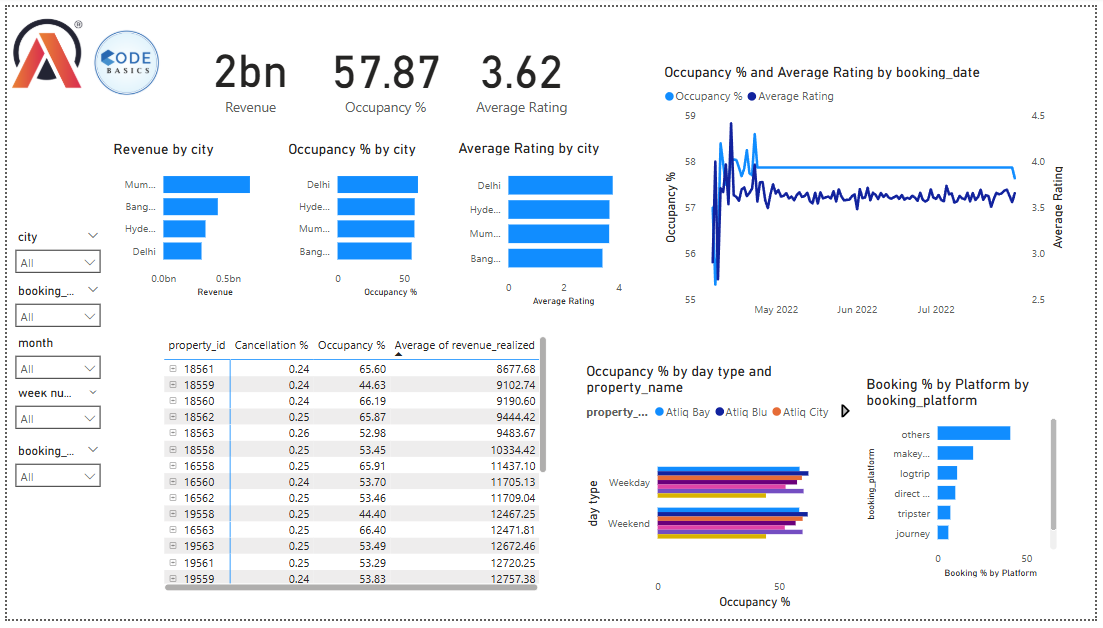

Layout of this report page (visuals, bound fields, positions):
{"tool":"powerbi","page":{"name":"Overview","canvas":[1280,720],"ordinal":0},"visuals":[{"type":"columnChart","fields":{"Category":["dim_hotels.city"],"Y":["fact_bookings.Average Rating"],"Series":["dim_rooms.room_class"]},"box":[252.6,157.7,434.6,285.9],"z":0},{"type":"slicer","fields":{"Values":["dim_hotels.property_name"]},"box":[14.1,282.1,196.2,64.1],"z":1000},{"type":"image","box":[0,0,95.7,108.3],"z":2000},{"type":"image","box":[95.7,0,90.7,131],"z":3000},{"type":"card","fields":{"Values":["fact_bookings.Total Revenue"]},"box":[267.5,18,158,113.1],"z":4000},{"type":"card","fields":{"Values":["fact_aggregated_bookings.Occupancy %"]},"box":[513.5,18,202,113.1],"z":5000},{"type":"clusteredBarChart","fields":{"Category":["dim_date.DayType"],"Series":["dim_hotels.property_name"],"Y":["fact_aggregated_bookings.Occupancy %"]},"box":[251.3,457.7,496.2,262.8],"z":6000},{"type":"donutChart","fields":{"Category":["fact_bookings.booking_platform"],"Y":["fact_bookings.Booking % by Platform"]},"box":[687.2,157.7,565.4,300],"z":7000},{"type":"slicer","fields":{"Values":["fact_bookings.booking_platform"]},"box":[14.1,411.5,196.2,78.2],"z":8000},{"type":"pivotTable","fields":{"Rows":["dim_hotels.property_name"],"Values":["fact_aggregated_bookings.Occupancy %","fact_bookings.Total Revenue"]},"box":[805.1,496.2,305.1,187.2],"z":9000},{"type":"slicer","fields":{"Values":["dim_hotels.city"]},"box":[14.1,346.2,196.2,65.4],"z":10000},{"type":"card","fields":{"Values":["fact_bookings.Total Bookings"]},"box":[765.8,18,255,113.1],"z":11000},{"type":"card","fields":{"Values":["fact_bookings.Average Rating"]},"box":[1030.8,17.9,248.7,112.8],"z":12000},{"type":"slicer","fields":{"Values":["dim_date.Date"]},"box":[14.4,480.3,195.7,70.9],"z":12001}]}

Visuals, with their boxes in screenshot pixels (x1, y1, x2, y2), scaled from the page's 1280x720 canvas onto the 1103x628 screenshot:
columnChart - dim_hotels.city x fact_bookings.Average Rating: box=[218, 138, 592, 387]
slicer - dim_hotels.property_name: box=[12, 246, 181, 302]
image: box=[0, 0, 82, 94]
image: box=[82, 0, 161, 114]
card - fact_bookings.Total Revenue: box=[231, 16, 367, 114]
card - fact_aggregated_bookings.Occupancy %: box=[442, 16, 617, 114]
clusteredBarChart - dim_date.DayType x dim_hotels.property_name: box=[217, 399, 644, 627]
donutChart - fact_bookings.booking_platform x fact_bookings.Booking % by Platform: box=[592, 138, 1079, 399]
slicer - fact_bookings.booking_platform: box=[12, 359, 181, 427]
pivotTable - dim_hotels.property_name x fact_aggregated_bookings.Occupancy %: box=[694, 433, 957, 596]
slicer - dim_hotels.city: box=[12, 302, 181, 359]
card - fact_bookings.Total Bookings: box=[660, 16, 880, 114]
card - fact_bookings.Average Rating: box=[888, 16, 1102, 114]
slicer - dim_date.Date: box=[12, 419, 181, 481]
